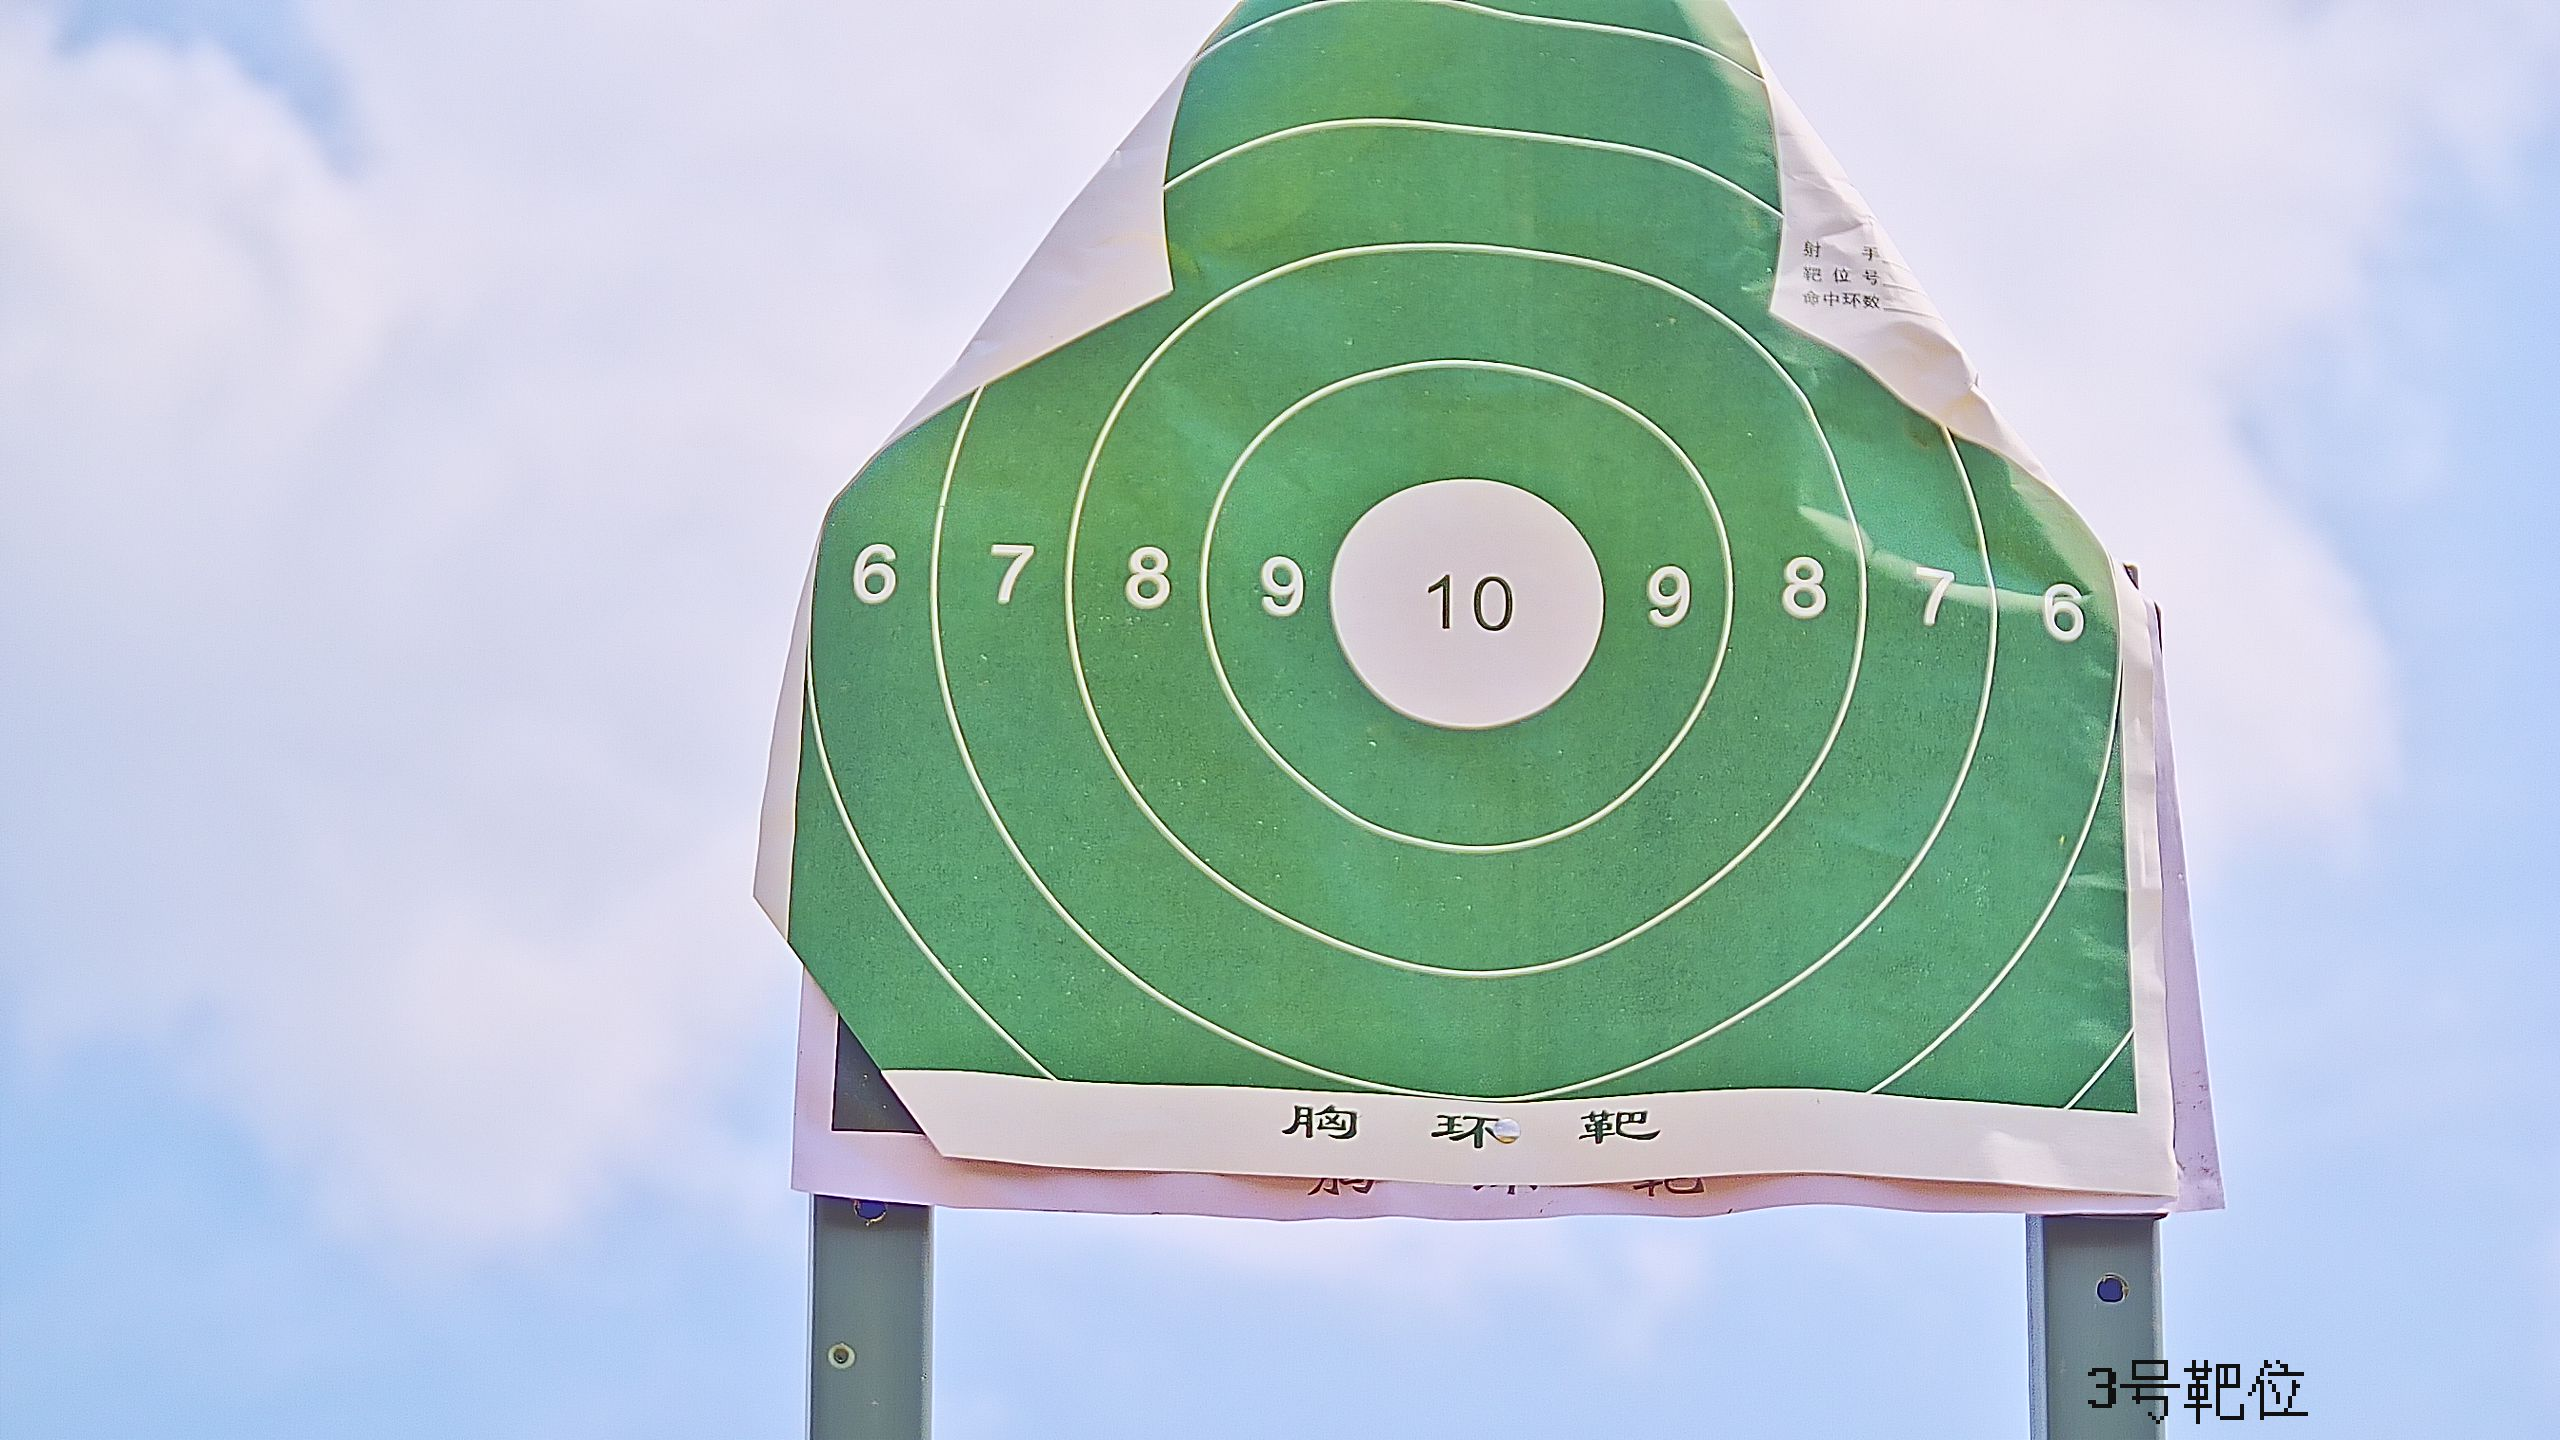kernel: (1459, 601, 1461, 607)
target: (789, 2, 2136, 1124)
ten: (1333, 476, 1604, 737)
